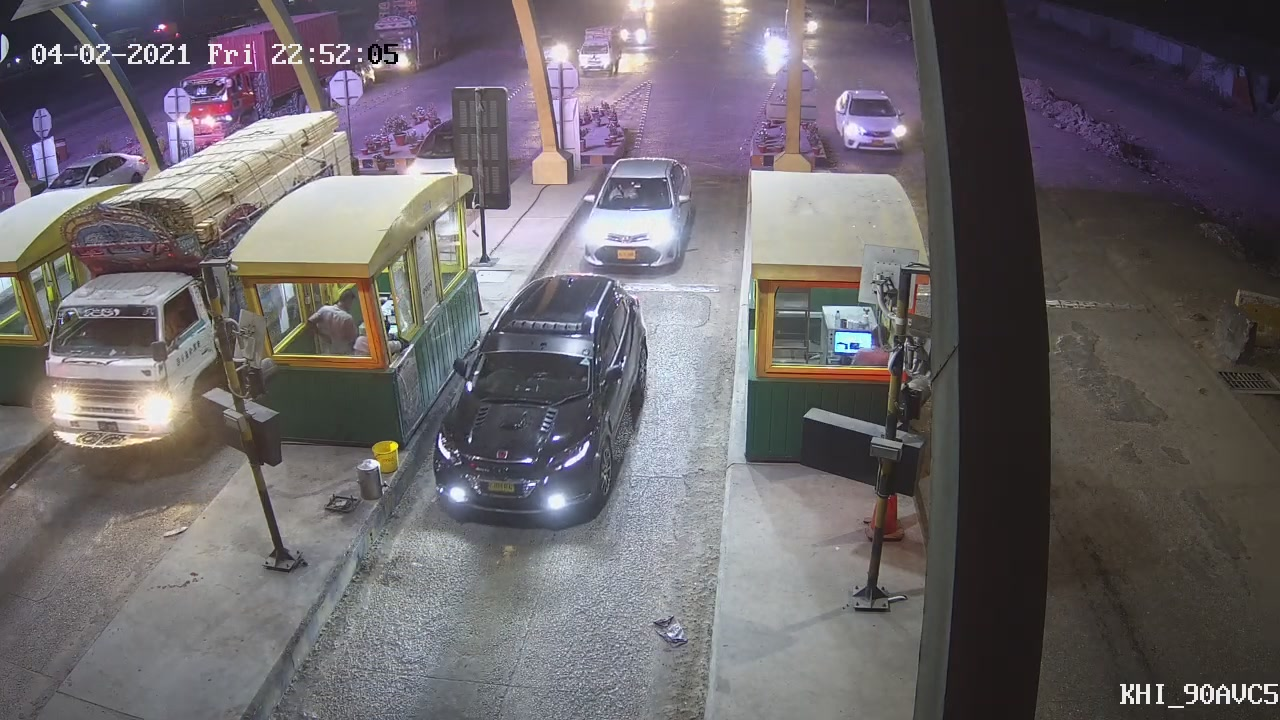F1: (432, 274, 646, 517), (579, 153, 699, 268)
